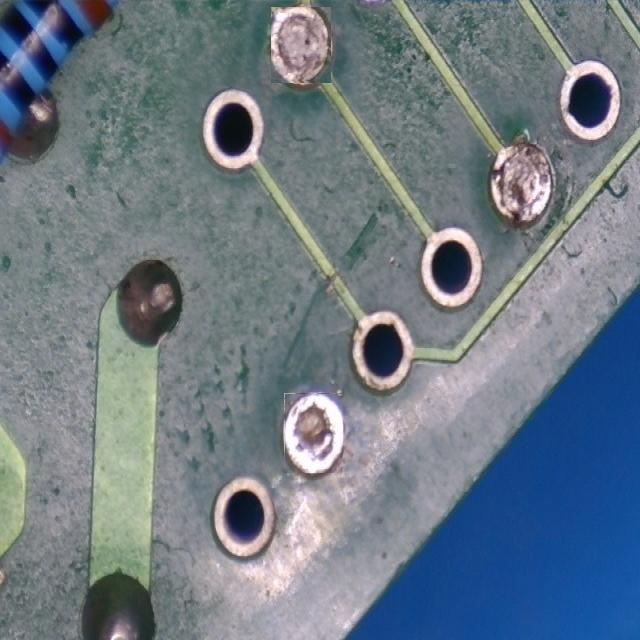Dry_joint: (284, 393, 343, 473), (491, 145, 551, 219), (272, 8, 329, 81)
